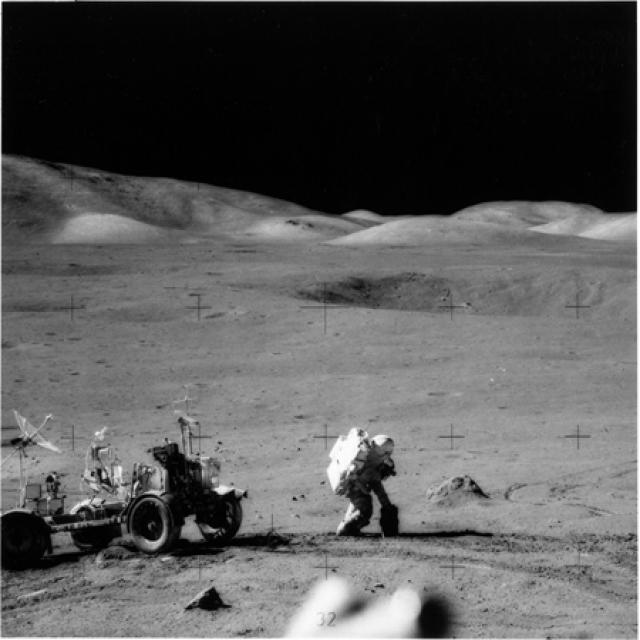artifact: (0, 410, 242, 558), (320, 428, 417, 537)
crater: (295, 251, 638, 326), (95, 297, 261, 339), (0, 252, 208, 278), (7, 286, 90, 316)
rock: (431, 472, 497, 514), (179, 578, 226, 618)
